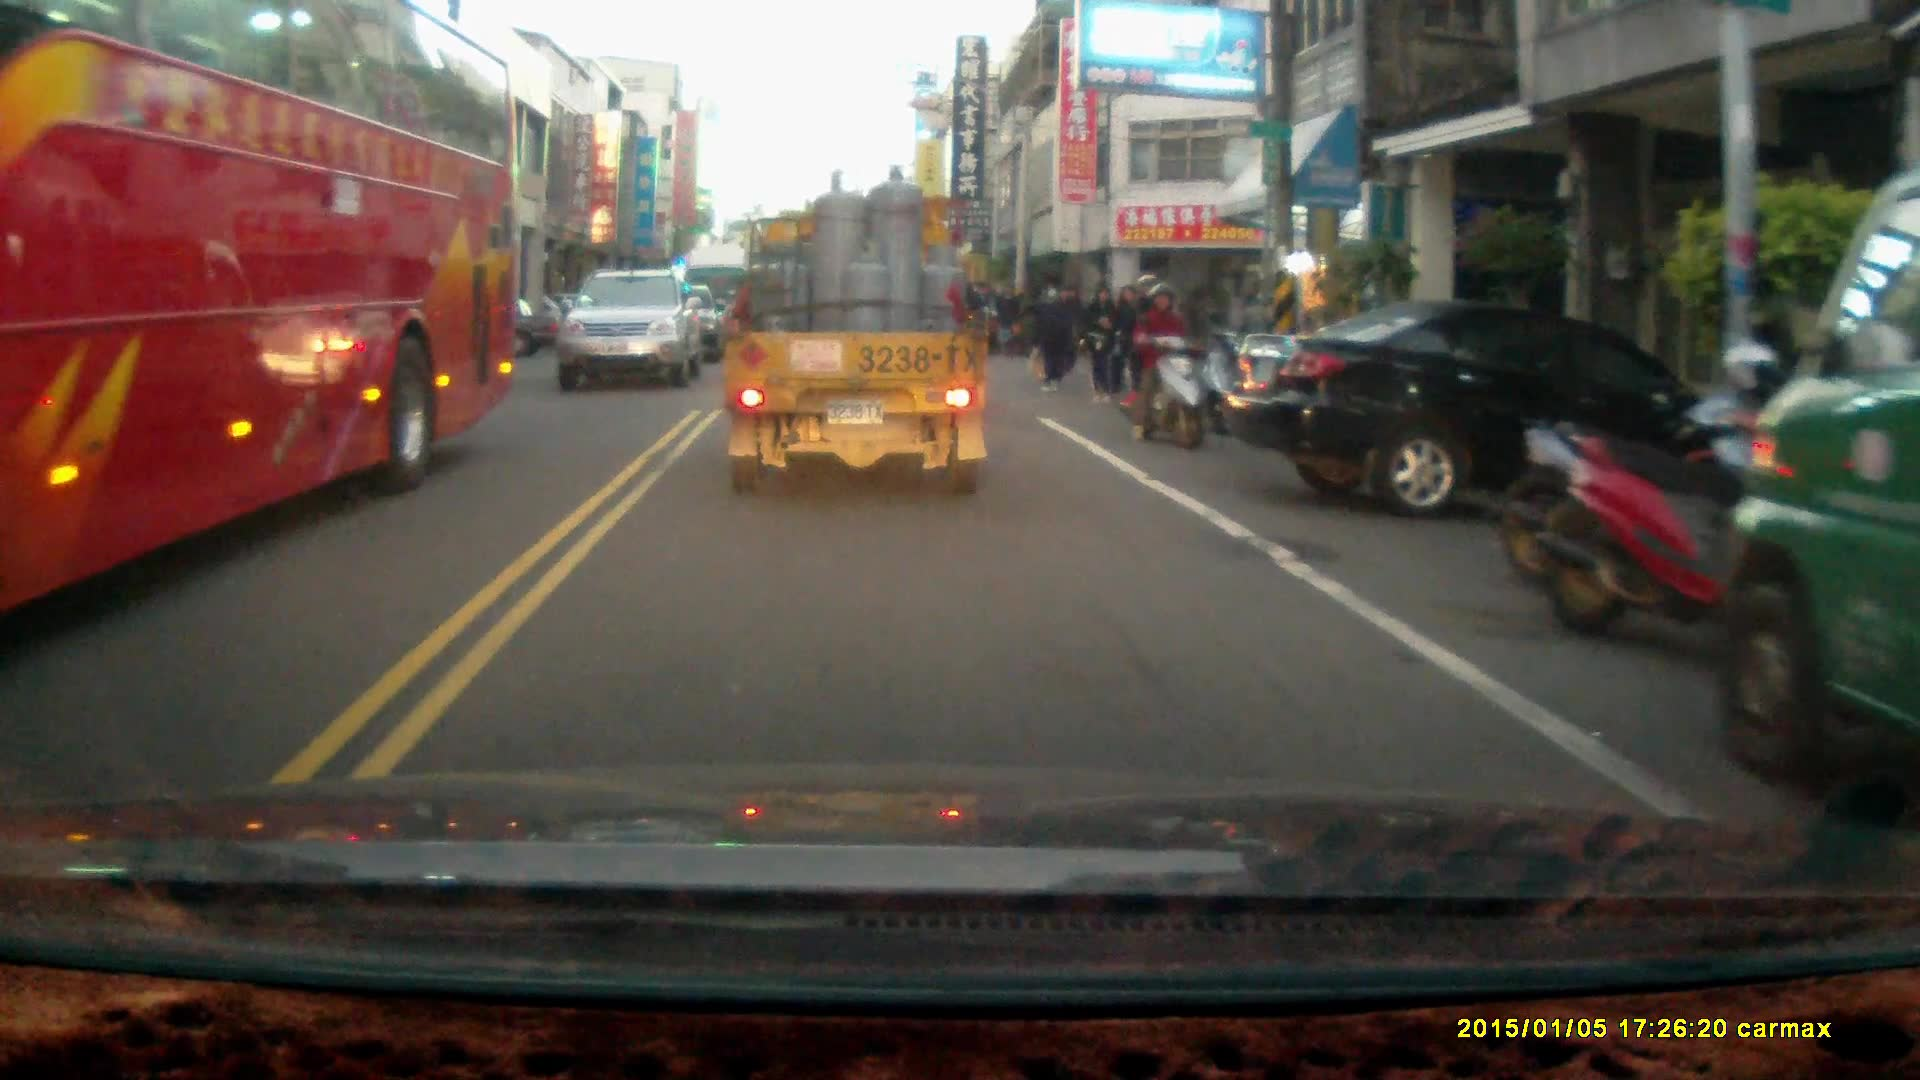pedestrian: (1084, 283, 1122, 407), (1030, 279, 1072, 392), (995, 280, 1022, 356)
rider: (1124, 271, 1203, 447)
vehicle: (1, 7, 526, 621), (1714, 181, 1920, 775), (1215, 302, 1764, 515), (721, 163, 996, 499), (557, 269, 704, 393)
